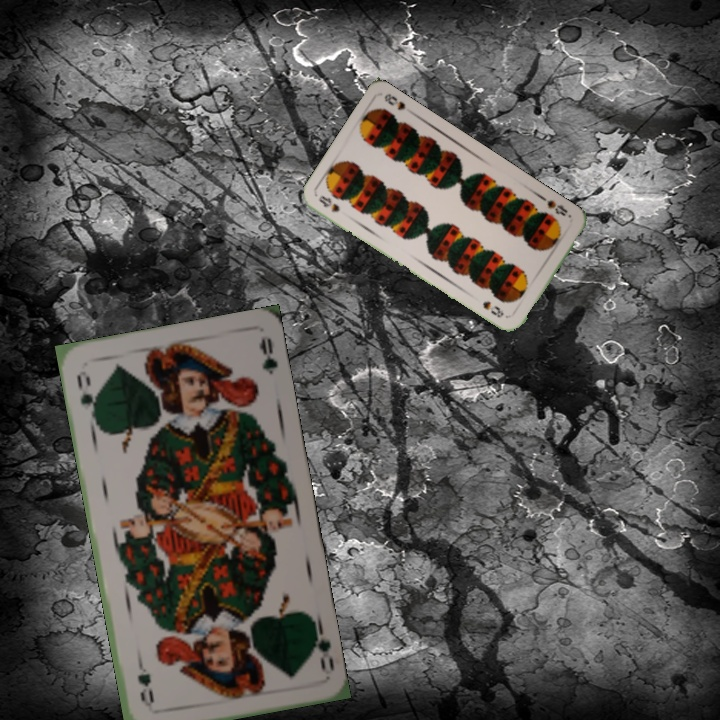GO: (307, 616, 337, 676), (72, 370, 99, 424)
S8: (538, 193, 570, 219), (314, 191, 342, 215)
